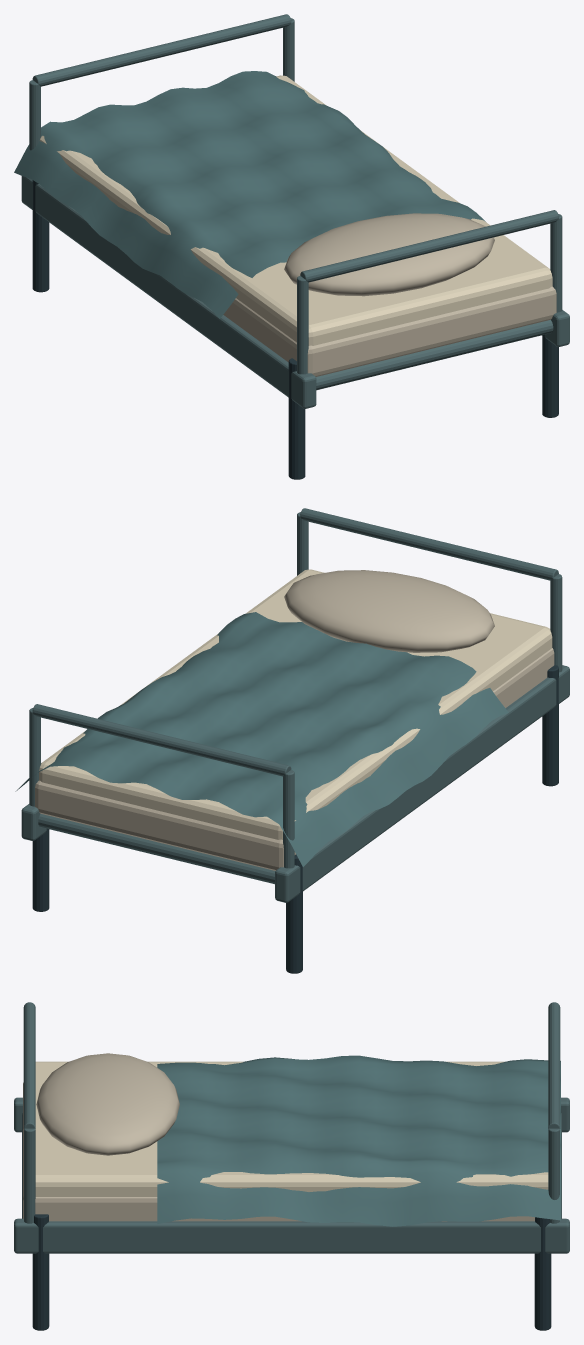
Rendered from bed.fbx.
The picture shows the model from 3 angles, top to bottom: view 1: azimuth 30°, elevation 25°; view 2: azimuth 150°, elevation 25°; view 3: azimuth 270°, elevation 25°; orthographic projection. The views are drawn at different scales.
Visible parts, largest first — view 1: bed; view 2: bed; view 3: bed.
Part boxes in pixels (x1=…): bed: x1=14, y1=14, x2=569, y2=479; bed: x1=15, y1=508, x2=569, y2=973; bed: x1=14, y1=1002, x2=569, y2=1330.
Size of the model in its own units: 146 by 101 by 248.
